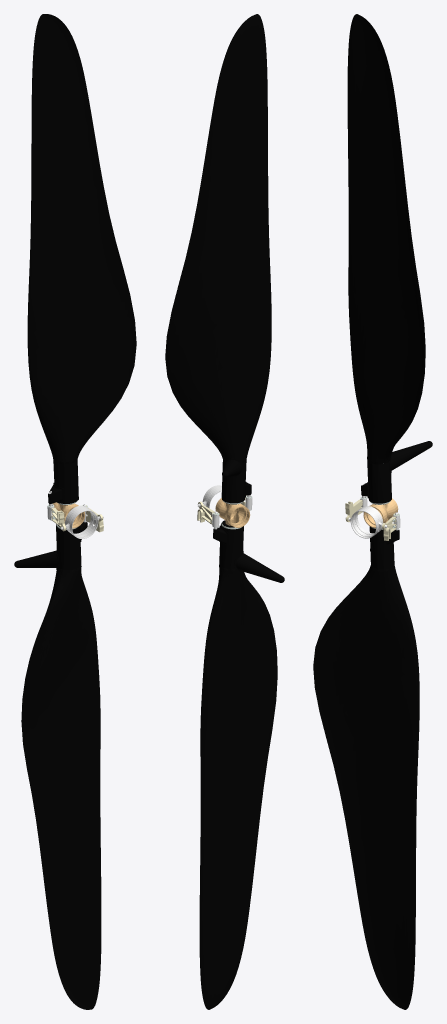
The model's file is MHS_BottomBlades_v16.glb.
The picture shows the model from 3 angles, left to right: view 1: azimuth 30°, elevation 25°; view 2: azimuth 210°, elevation 25°; view 3: azimuth 330°, elevation 25°; orthographic projection. The views are drawn at different scales.
Bounding box in the file's own units: 0.1437 × 1.21 × 0.0881.
